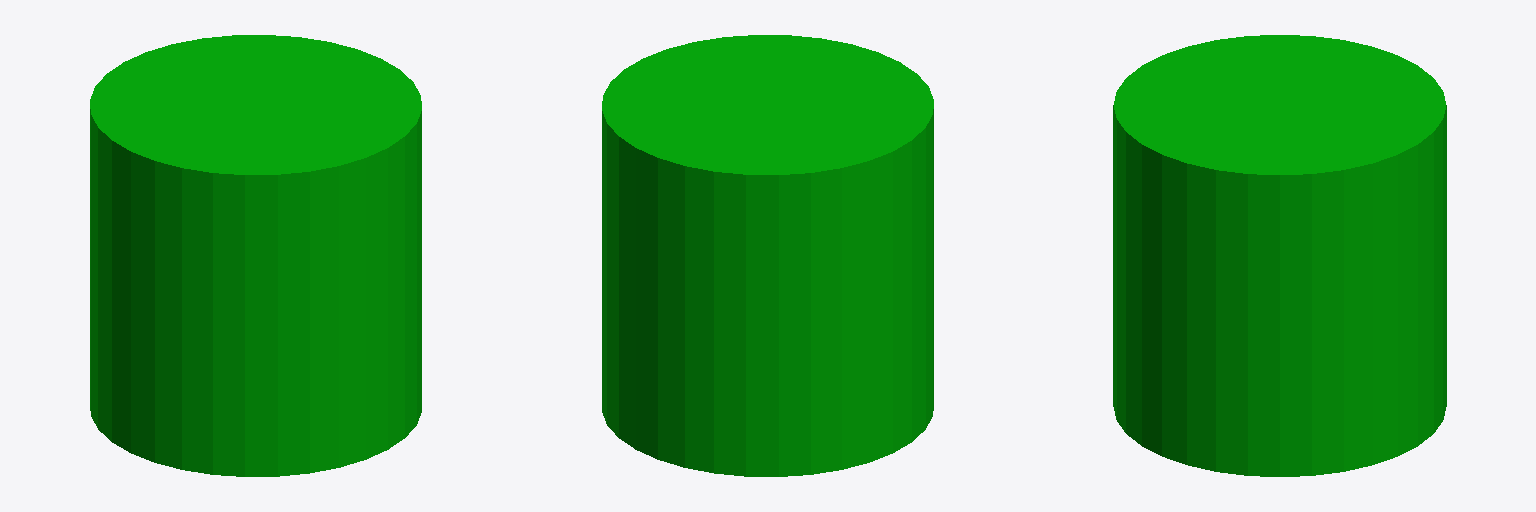
Rendered from towergreen.obj.
The picture shows the model from 3 angles: view 1: azimuth 30°, elevation 25°; view 2: azimuth 150°, elevation 25°; view 3: azimuth 270°, elevation 25°; orthographic projection.
Size of the model in its own units: 2 by 2 by 2.